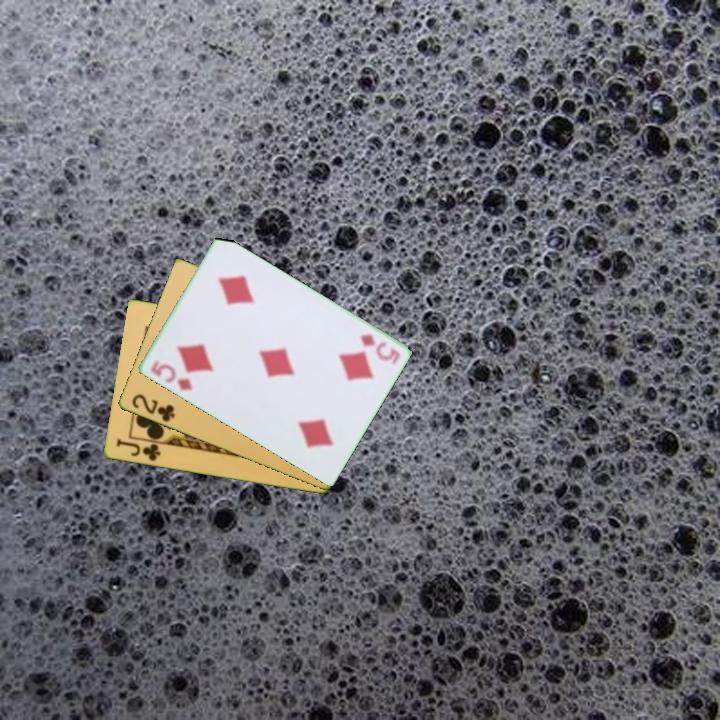2c: (128, 391, 177, 425)
5d: (147, 358, 194, 394), (356, 331, 402, 367)
Jc: (112, 435, 163, 464)
